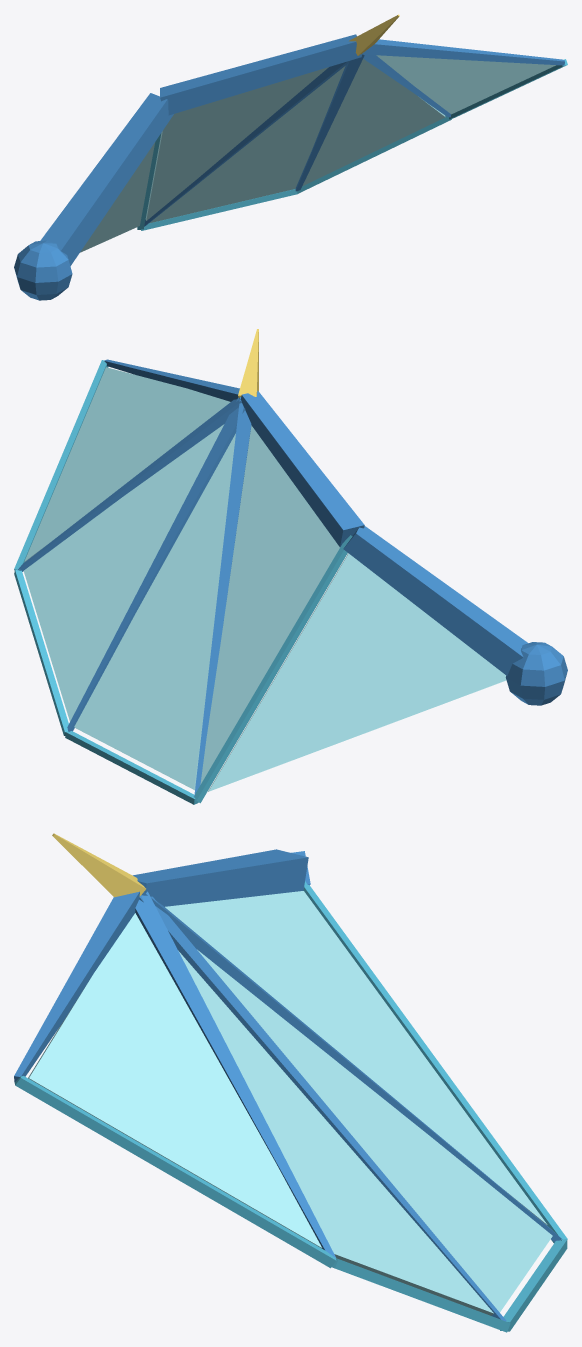
File: DragonWingR.fbx
The picture shows the model from 3 angles, top to bottom: view 1: azimuth 30°, elevation 25°; view 2: azimuth 150°, elevation 25°; view 3: azimuth 270°, elevation 25°; orthographic projection. The views are drawn at different scales.
Parts seen in each view (by area): view 1: DragonWingR_Membrane, DragonWingR_Bones, DragonWingR_Edge, DragonWingR_Claw; view 2: DragonWingR_Membrane, DragonWingR_Bones, DragonWingR_Edge, DragonWingR_Claw; view 3: DragonWingR_Membrane, DragonWingR_Bones, DragonWingR_Edge, DragonWingR_Claw.
Part boxes in pixels (left/top/right/bottom): DragonWingR_Membrane: left=80, top=55, right=555, bottom=252; DragonWingR_Bones: left=14, top=34, right=564, bottom=300; DragonWingR_Edge: left=137, top=59, right=567, bottom=230; DragonWingR_Claw: left=349, top=14, right=399, bottom=55; DragonWingR_Membrane: left=23, top=367, right=506, bottom=791; DragonWingR_Bones: left=18, top=359, right=567, bottom=796; DragonWingR_Edge: left=14, top=360, right=352, bottom=804; DragonWingR_Claw: left=238, top=329, right=258, bottom=397; DragonWingR_Membrane: left=28, top=891, right=552, bottom=1315; DragonWingR_Bones: left=14, top=849, right=562, bottom=1321; DragonWingR_Edge: left=14, top=881, right=567, bottom=1332; DragonWingR_Claw: left=52, top=833, right=145, bottom=897.
Bounding box in the file's own units: 638 × 379 × 386.
